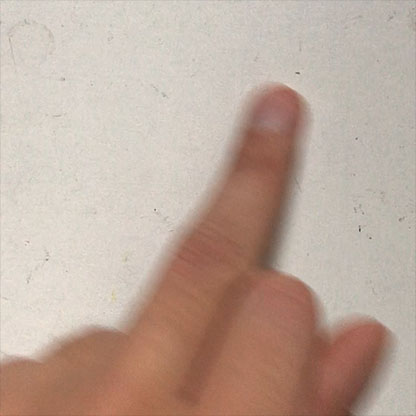fingertip: (234, 83, 319, 157)
